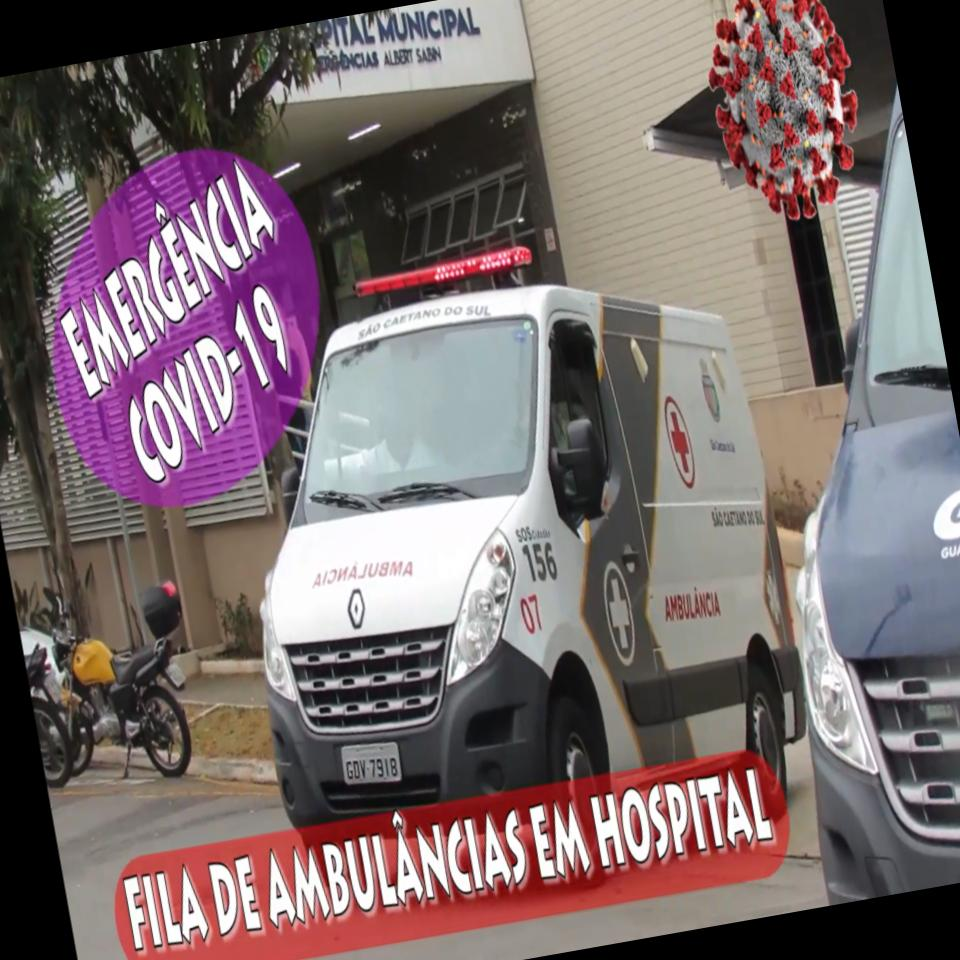bombeiro: (190, 205, 814, 838)
